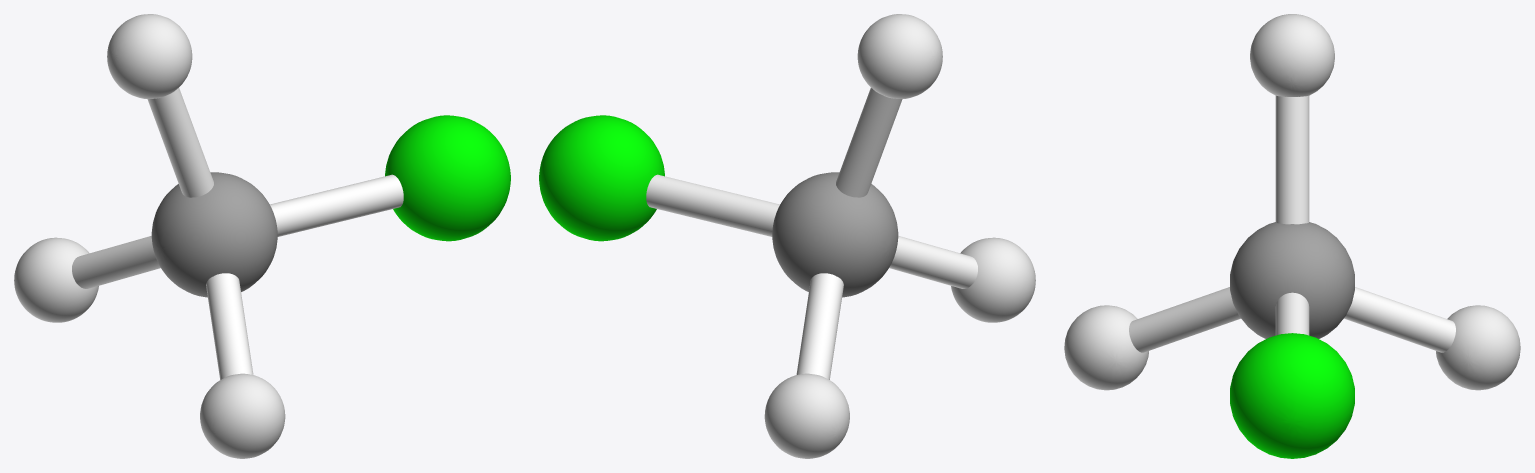
Rendered from Chloromethane.dae.
3 renders of one model, left to right at view 1: azimuth 30°, elevation 25°; view 2: azimuth 150°, elevation 25°; view 3: azimuth 270°, elevation 25°, orthographic.
Parts seen in each view (by area): view 1: Chloromethane__01_Saturated__Isobutane_Butane__Isobutane_pS_ (×4), Chloromethane__01_Saturated__Isobutane_Butane__Isobutane_pC_ (×4), Chloromethane__01_Saturated__Isobutane_Butane__Isobutane_pSp, Chloromethane__01_Saturated__Isobutane_Butane__Isobutane_pCy; view 2: Chloromethane__01_Saturated__Isobutane_Butane__Isobutane_pS_ (×4), Chloromethane__01_Saturated__Isobutane_Butane__Isobutane_pC_ (×4), Chloromethane__01_Saturated__Isobutane_Butane__Isobutane_pSp, Chloromethane__01_Saturated__Isobutane_Butane__Isobutane_pCy; view 3: Chloromethane__01_Saturated__Isobutane_Butane__Isobutane_pS_ (×4), Chloromethane__01_Saturated__Isobutane_Butane__Isobutane_pC_ (×4), Chloromethane__01_Saturated__Isobutane_Butane__Isobutane_pSp, Chloromethane__01_Saturated__Isobutane_Butane__Isobutane_pCy.
Part boxes in pixels (x1,y1,x2,y2): Chloromethane__01_Saturated__Isobutane_Butane__Isobutane_pS_ (×4): (107, 14, 510, 458); Chloromethane__01_Saturated__Isobutane_Butane__Isobutane_pC_ (×4): (72, 88, 403, 379); Chloromethane__01_Saturated__Isobutane_Butane__Isobutane_pSp: (14, 237, 98, 322); Chloromethane__01_Saturated__Isobutane_Butane__Isobutane_pCy: (271, 176, 403, 236); Chloromethane__01_Saturated__Isobutane_Butane__Isobutane_pS_ (×4): (539, 14, 1035, 322); Chloromethane__01_Saturated__Isobutane_Butane__Isobutane_pC_ (×4): (646, 88, 977, 379); Chloromethane__01_Saturated__Isobutane_Butane__Isobutane_pSp: (764, 373, 849, 458); Chloromethane__01_Saturated__Isobutane_Butane__Isobutane_pCy: (646, 175, 777, 236); Chloromethane__01_Saturated__Isobutane_Butane__Isobutane_pS_ (×4): (1064, 14, 1354, 458); Chloromethane__01_Saturated__Isobutane_Butane__Isobutane_pC_ (×4): (1129, 95, 1455, 352); Chloromethane__01_Saturated__Isobutane_Butane__Isobutane_pSp: (1436, 305, 1520, 390); Chloromethane__01_Saturated__Isobutane_Butane__Isobutane_pCy: (1275, 292, 1309, 335).
Size of what is drawn, in the model's own units: 0.7881 by 0.8005 by 0.7125.
